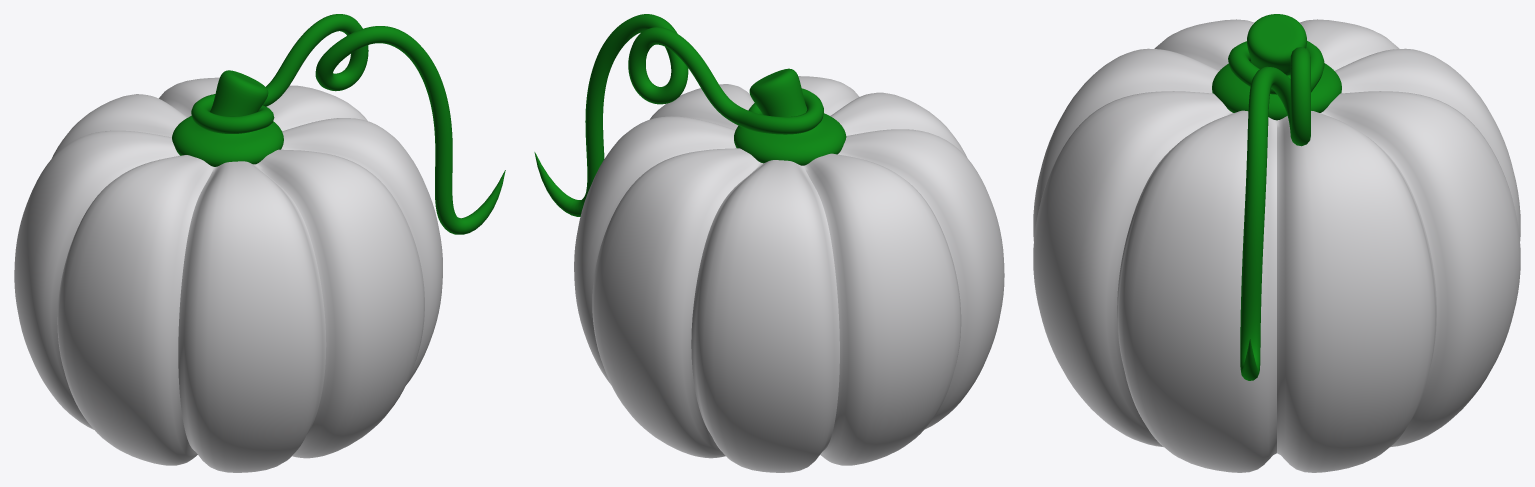
The model's file is PumpkinWithoutColor.fbx.
3 renders of one model, left to right at view 1: azimuth 30°, elevation 25°; view 2: azimuth 150°, elevation 25°; view 3: azimuth 270°, elevation 25°, orthographic. The views are drawn at different scales.
Visible parts, largest first — view 1: Sphere, NurbsPath, Sphere.001; view 2: Sphere, NurbsPath, Sphere.001; view 3: Sphere, NurbsPath, Sphere.001.
Boxes of the visible parts, left/top/right/bottom form: Sphere: left=14, top=77, right=442, bottom=472; NurbsPath: left=191, top=14, right=505, bottom=234; Sphere.001: left=172, top=70, right=283, bottom=166; Sphere: left=574, top=76, right=1004, bottom=472; NurbsPath: left=534, top=14, right=823, bottom=216; Sphere.001: left=734, top=68, right=846, bottom=165; Sphere: left=1033, top=19, right=1520, bottom=472; NurbsPath: left=1228, top=41, right=1324, bottom=380; Sphere.001: left=1212, top=14, right=1341, bottom=120.
Bounding box in the file's own units: 234 × 191 × 190.
